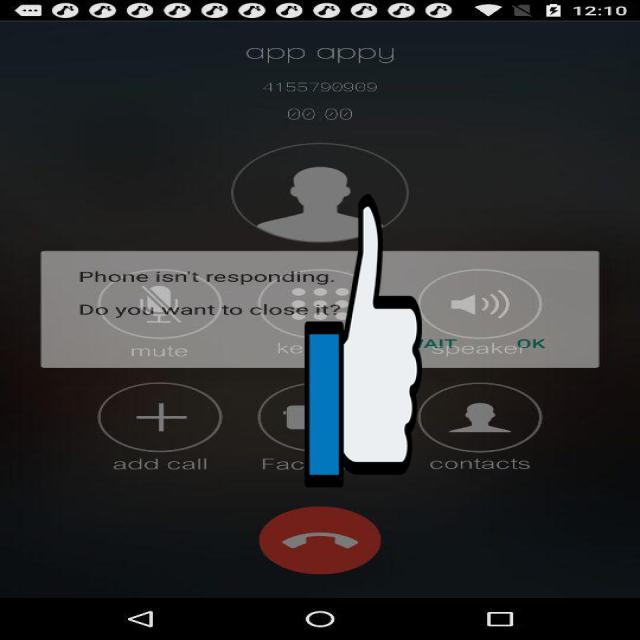privacy zuckering: (305, 187, 422, 494)
